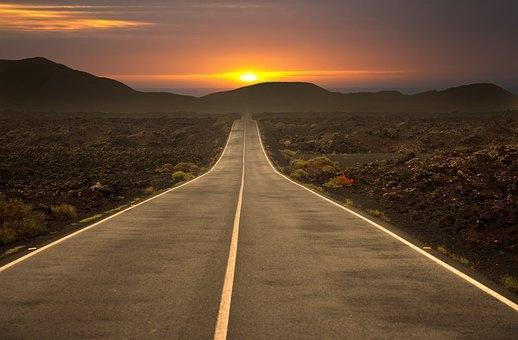field: (256, 110, 515, 297)
road: (0, 119, 517, 339)
